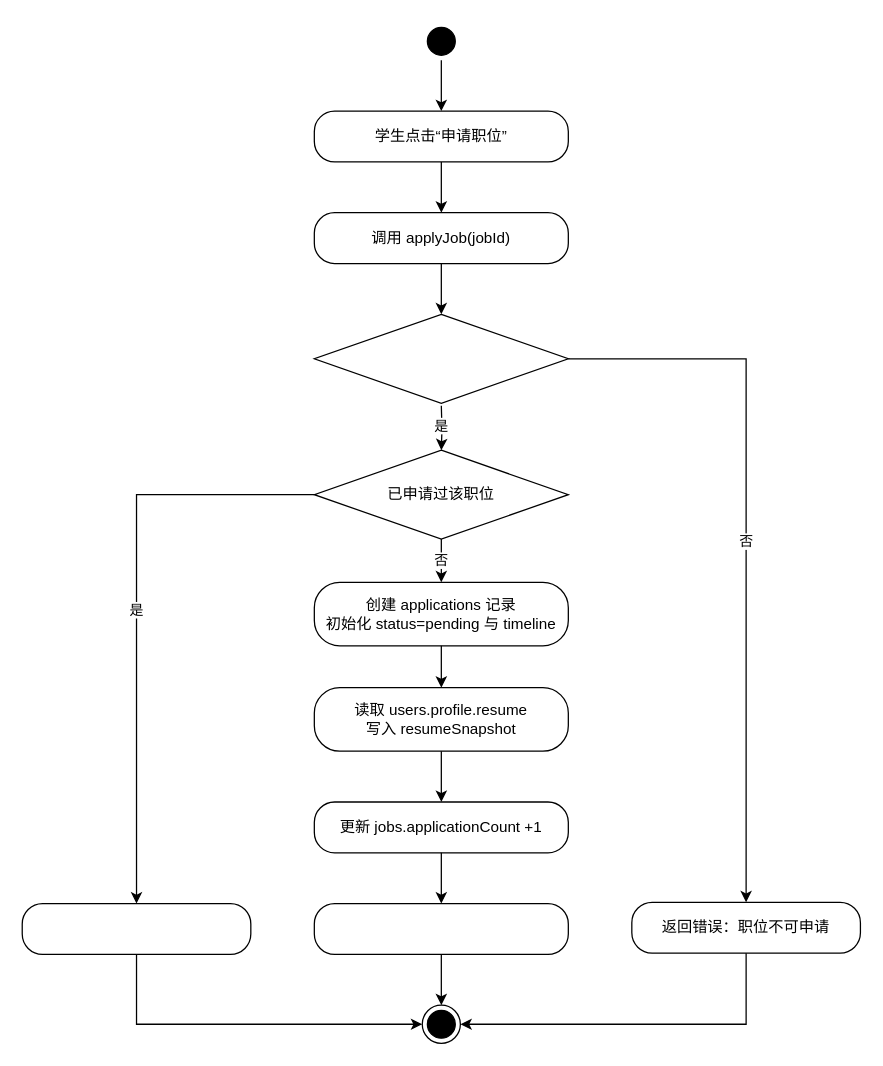
The diagram is 883 pixels wide and 1066 high, and some of its shapes have lost their labels. Each missing label, with the box of its shape:
职位存在且 status=published: (313, 313, 568, 403)
返回成功：申请成功: (313, 902, 568, 954)
返回错误：重复申请: (21, 902, 251, 954)
